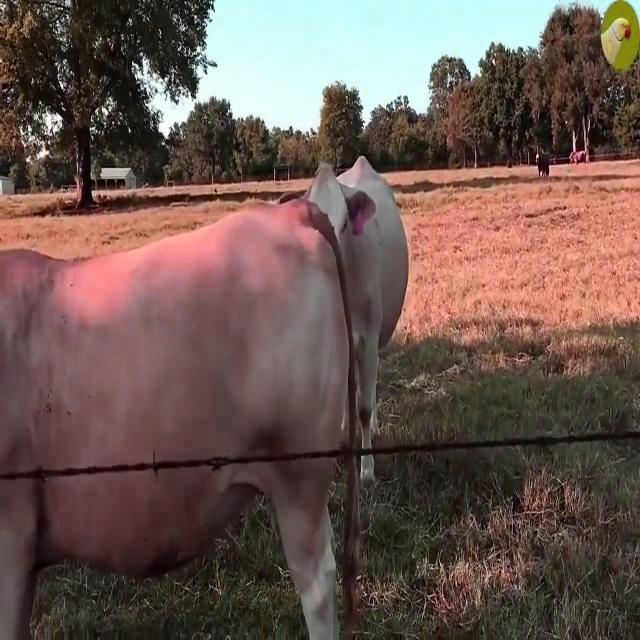cow: (0, 198, 349, 473), (0, 459, 338, 640), (306, 156, 409, 448)
